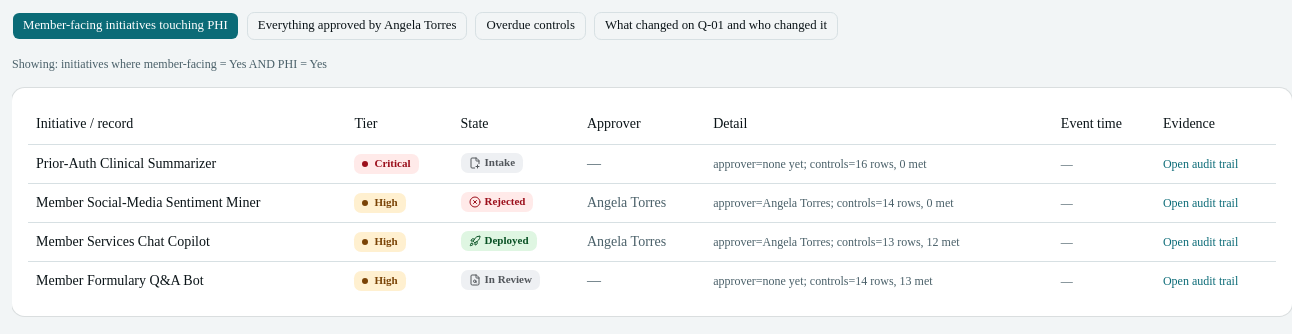
Test case: AuditConsole › the "q01-control-changes" query returns the single Ray Chen event
Click the button "What changed on Q-01 and who changed it" at {"x": 716, "y": 26}, box x1=594 y1=12 x2=838 y2=40
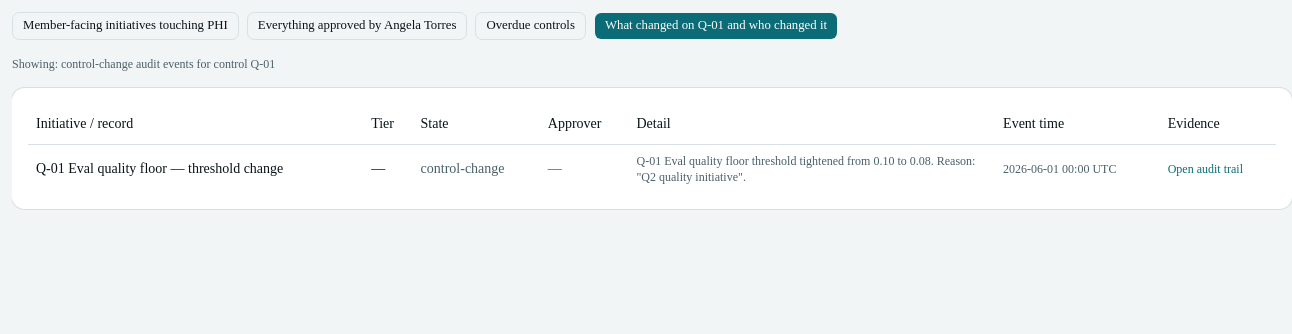
Expected: the text "0.10 to 0.08" is shown, x1=636 y1=154 x2=976 y2=184
Expected: the text "Q2 quality initiative" is shown, x1=636 y1=154 x2=976 y2=184
